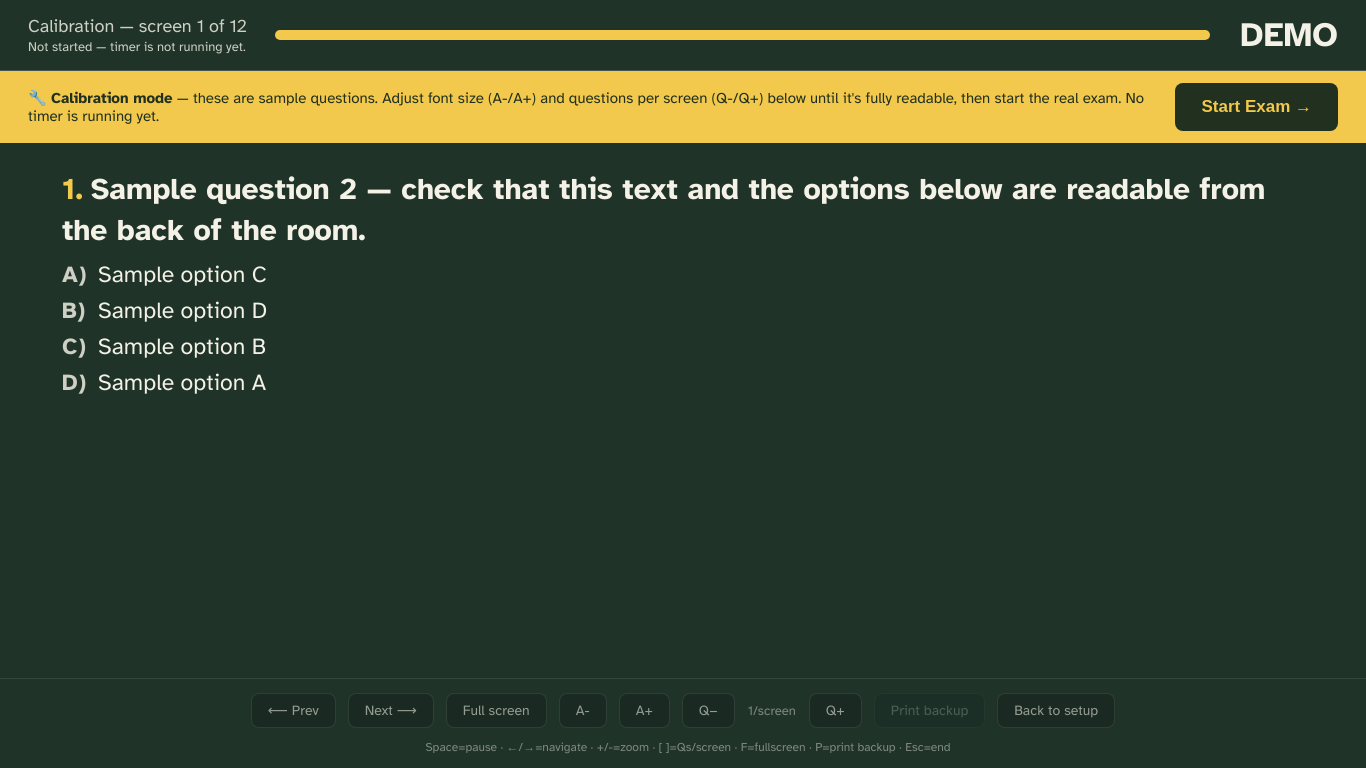
SlideshowScreen (real exam timer — Milestone 6a) › pausing stops the countdown; resuming continues it
Click the button "Start Exam →".
click(1257, 107)  # box [1176,83,1338,131]
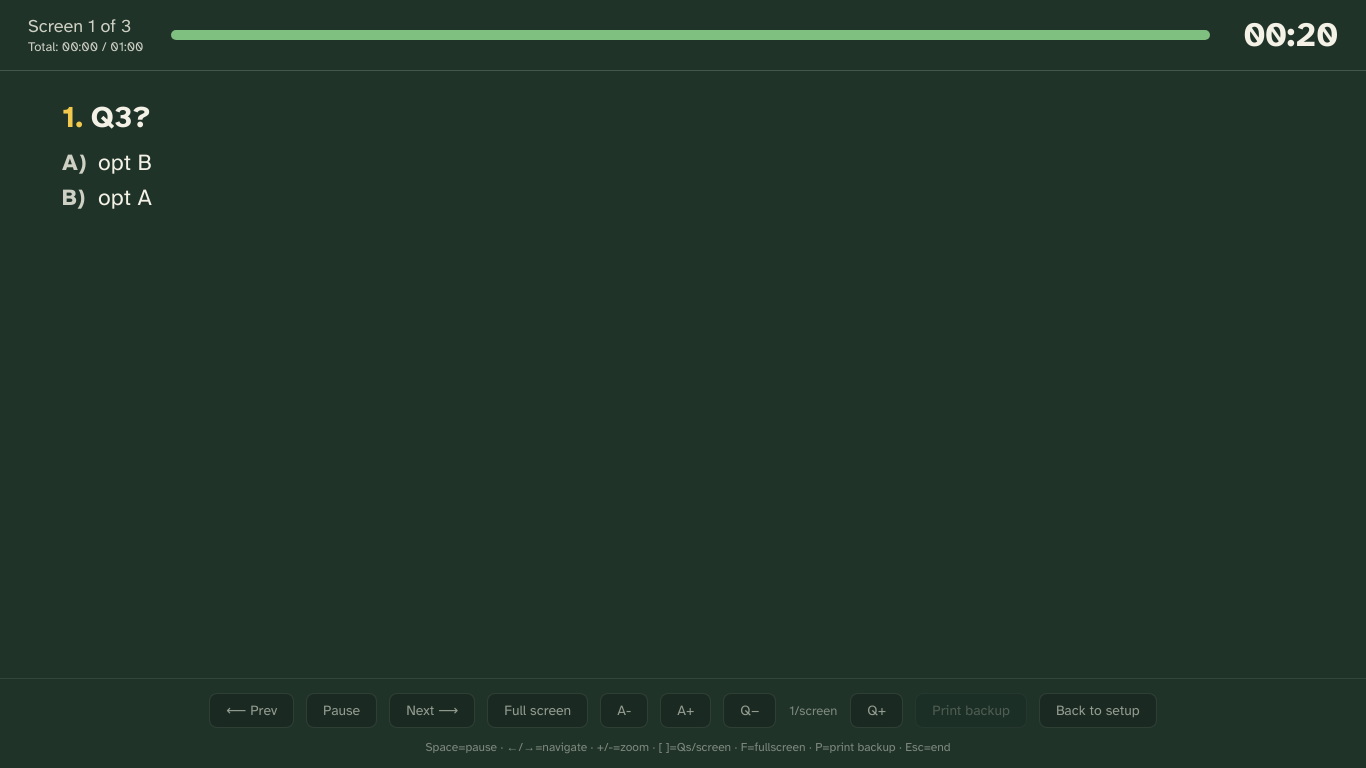
Click the button "Pause".
click(342, 710)  # box [306,693,377,728]
Wait 3000 ms
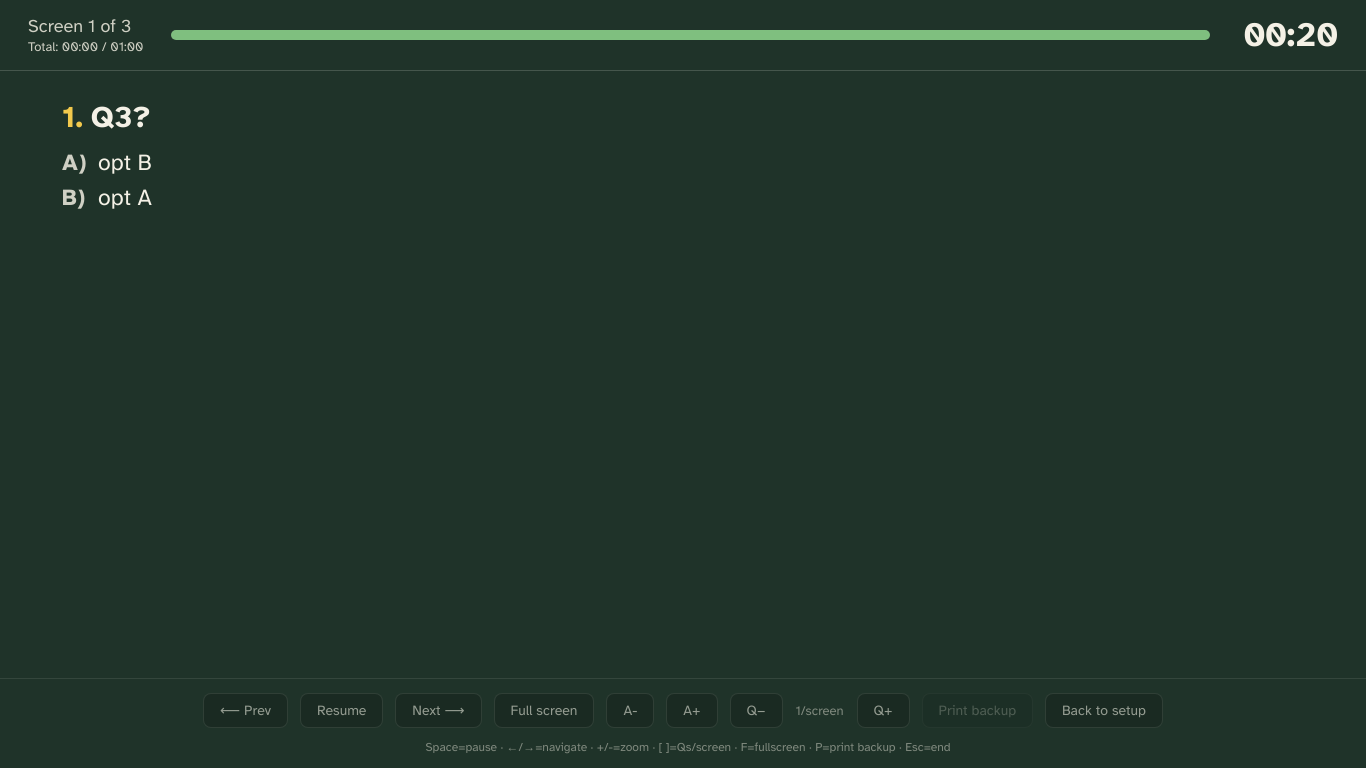
Expected: the button "Resume" is shown
Expected: the text "00:20" is shown, [1238,14,1338,56]
Click the button "Resume".
click(342, 710)  # box [300,693,383,728]
Wait 1000 ms
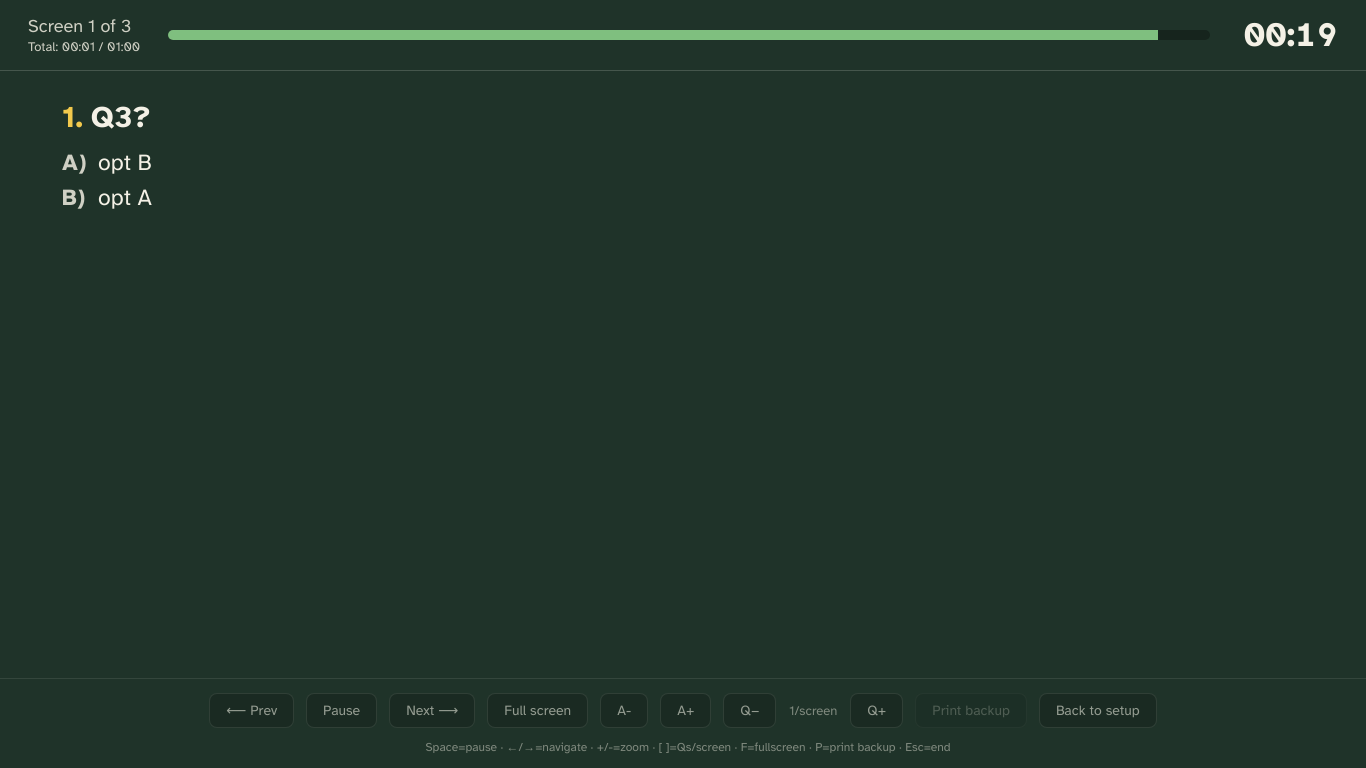
Expected: the text "00:19" is shown, [1238,14,1338,56]
